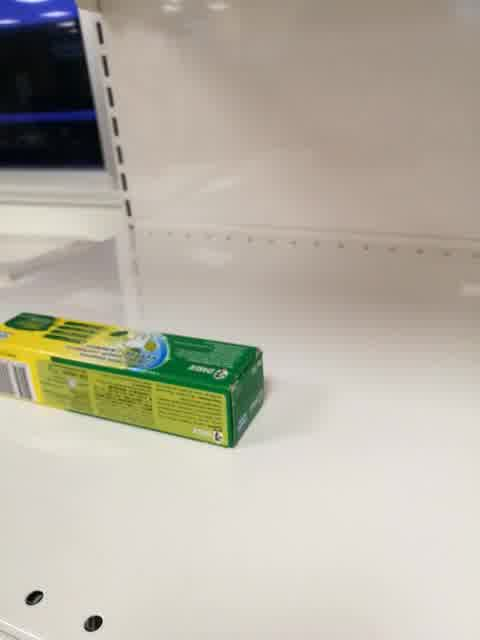toothpaste: (1, 310, 268, 450)
